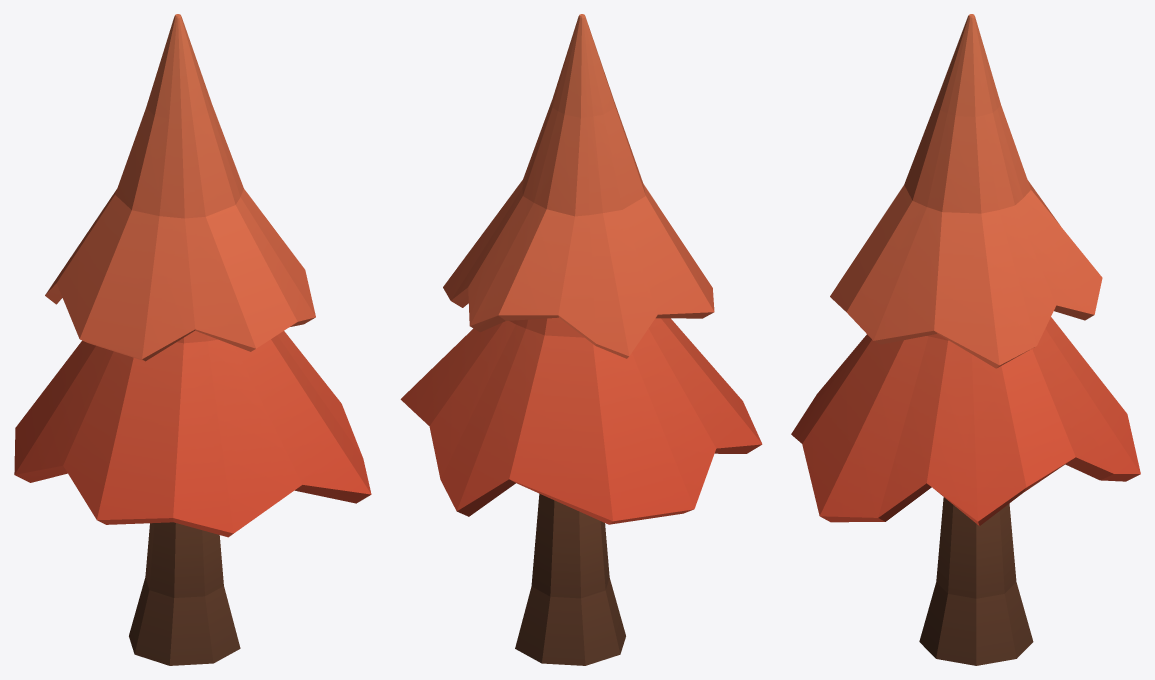
The model's file is autumn fir tree small.fbx.
The picture shows the model from 3 angles, left to right: view 1: azimuth 30°, elevation 25°; view 2: azimuth 150°, elevation 25°; view 3: azimuth 270°, elevation 25°; orthographic projection.
Parts seen in each view (by area): view 1: autumn fir tree small; view 2: autumn fir tree small; view 3: autumn fir tree small.
Part boxes in pixels (box(x1,y1,x2,y2)): autumn fir tree small: box(14, 14, 371, 665); autumn fir tree small: box(400, 14, 762, 665); autumn fir tree small: box(791, 14, 1140, 665).
Size of the model in its own units: 201 by 397 by 202.
